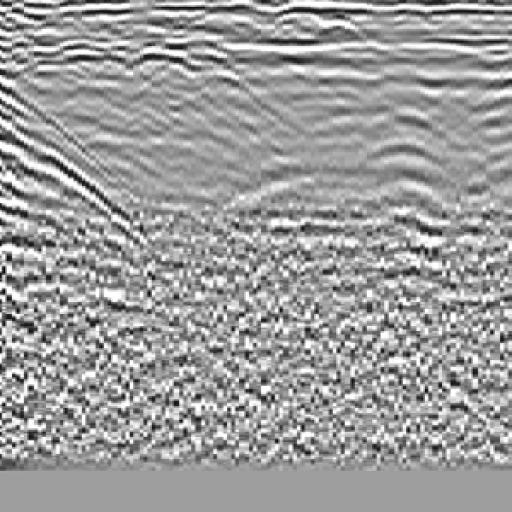metalic: (223, 34, 420, 274)
nonmetalic: (1, 67, 166, 284)
